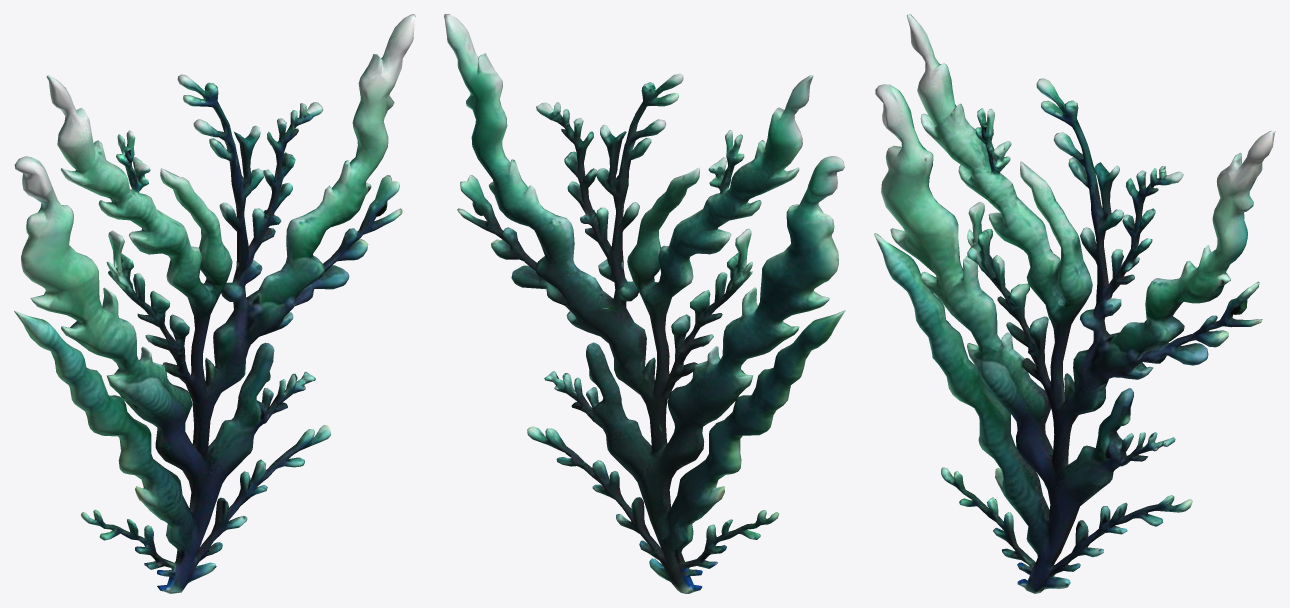
Rendered from seaharmony.glb.
The picture shows the model from 3 angles, left to right: view 1: azimuth 30°, elevation 25°; view 2: azimuth 150°, elevation 25°; view 3: azimuth 330°, elevation 25°; orthographic projection.
Size of the model in its own units: 1.46 by 1.9 by 0.1388.
1 material, 1 textured.
